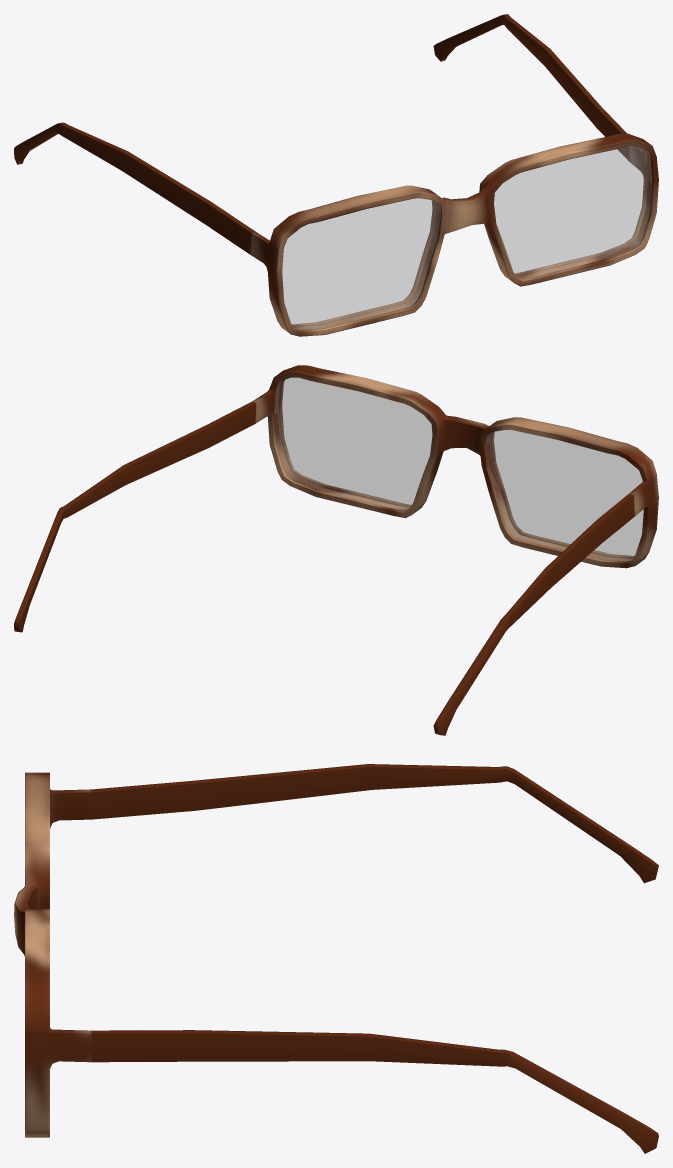
File: Nerd.glb
The picture shows the model from 3 angles, top to bottom: view 1: azimuth 30°, elevation 25°; view 2: azimuth 150°, elevation 25°; view 3: azimuth 270°, elevation 25°; orthographic projection. The views are drawn at different scales.
Parts seen in each view (by area): view 1: Nerd; view 2: Nerd; view 3: Nerd.
Boxes of the visible parts, box(x1,y1,x2,y2) form: Nerd: box(14, 14, 658, 336); Nerd: box(14, 365, 658, 735); Nerd: box(14, 764, 658, 1153).
Bounding box in the file's own units: 0.8394 × 0.217 × 0.7935.
Materials: 2 (2 with a texture image).
